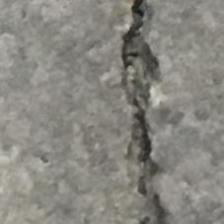Crack: (117, 0, 202, 224)
